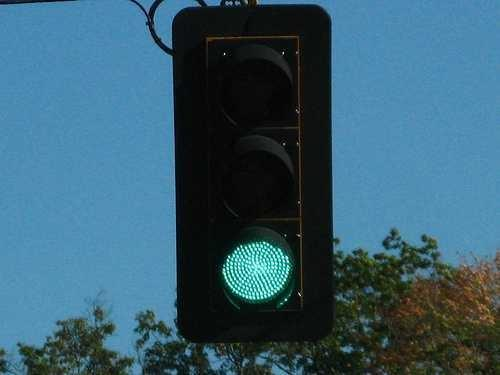2: (178, 12, 326, 337)
3: (209, 32, 302, 126), (200, 132, 298, 220)
red traffic light: (205, 224, 304, 325)
